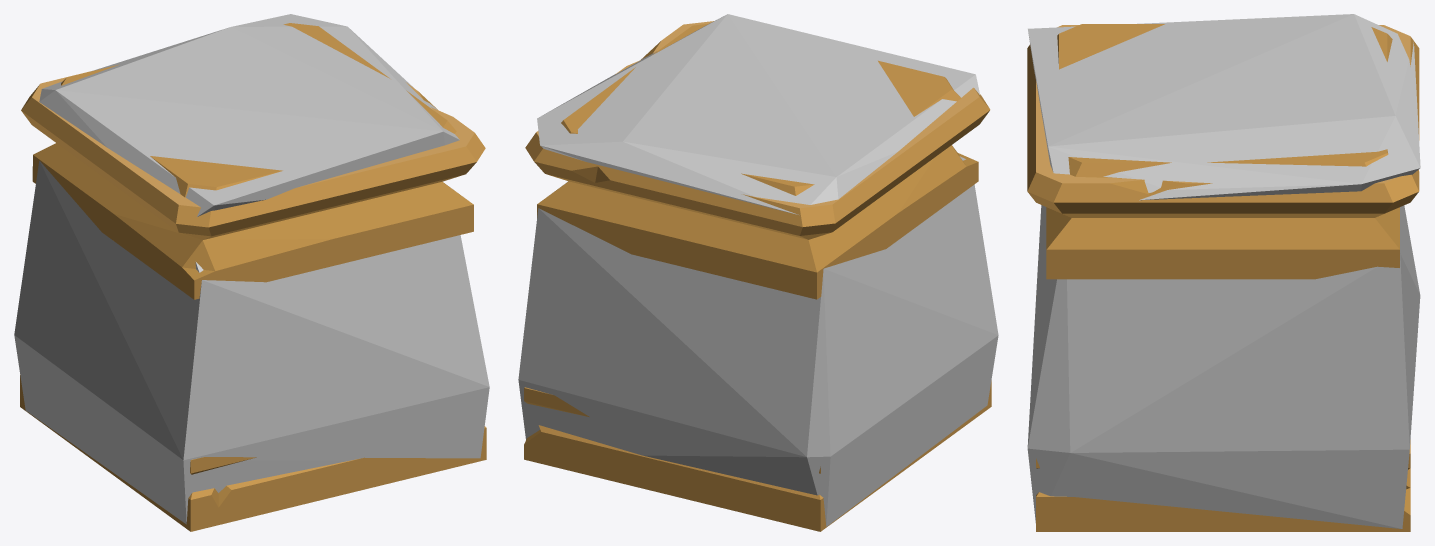
File: SM_Prop_Statue_Plinth_01.fbx
The picture shows the model from 3 angles, left to right: view 1: azimuth 30°, elevation 25°; view 2: azimuth 150°, elevation 25°; view 3: azimuth 270°, elevation 25°; orthographic projection. The views are drawn at different scales.
Visible parts, largest first — view 1: SM_Prop_Statue_Plinth_01_ConvexHulls, SM_Prop_Statue_Plinth_01; view 2: SM_Prop_Statue_Plinth_01_ConvexHulls, SM_Prop_Statue_Plinth_01; view 3: SM_Prop_Statue_Plinth_01_ConvexHulls, SM_Prop_Statue_Plinth_01.
Boxes of the visible parts, bbox=[...] form: SM_Prop_Statue_Plinth_01_ConvexHulls: bbox=[14, 14, 489, 524]; SM_Prop_Statue_Plinth_01: bbox=[20, 23, 486, 531]; SM_Prop_Statue_Plinth_01_ConvexHulls: bbox=[518, 14, 998, 526]; SM_Prop_Statue_Plinth_01: bbox=[524, 21, 991, 531]; SM_Prop_Statue_Plinth_01_ConvexHulls: bbox=[1027, 14, 1420, 528]; SM_Prop_Statue_Plinth_01: bbox=[1027, 24, 1419, 531].
Bounding box in the file's own units: 66.61 × 66.09 × 68.06.
Materials: 2 (1 with a texture image).
